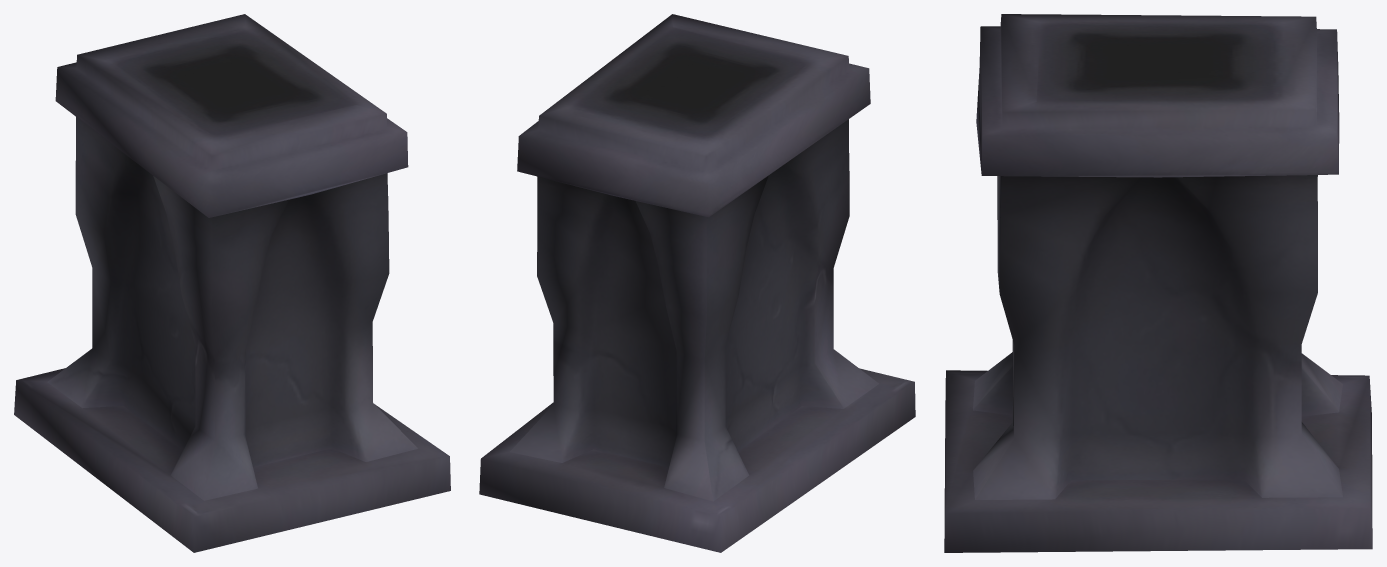
Rendered from TwistedJungle_Wall01.FBX.
3 views of the same model, side by side, from view 1: azimuth 30°, elevation 25°; view 2: azimuth 150°, elevation 25°; view 3: azimuth 270°, elevation 25° (orthographic). The views are drawn at different scales.
Parts seen in each view (by area): view 1: TwistedJungle_Wall01; view 2: TwistedJungle_Wall01; view 3: TwistedJungle_Wall01.
Part boxes in pixels (<box>): TwistedJungle_Wall01: <box>14,14,450,552</box>; TwistedJungle_Wall01: <box>479,14,915,552</box>; TwistedJungle_Wall01: <box>944,14,1372,552</box>.
Size of the model in its own units: 109 by 151 by 139.
